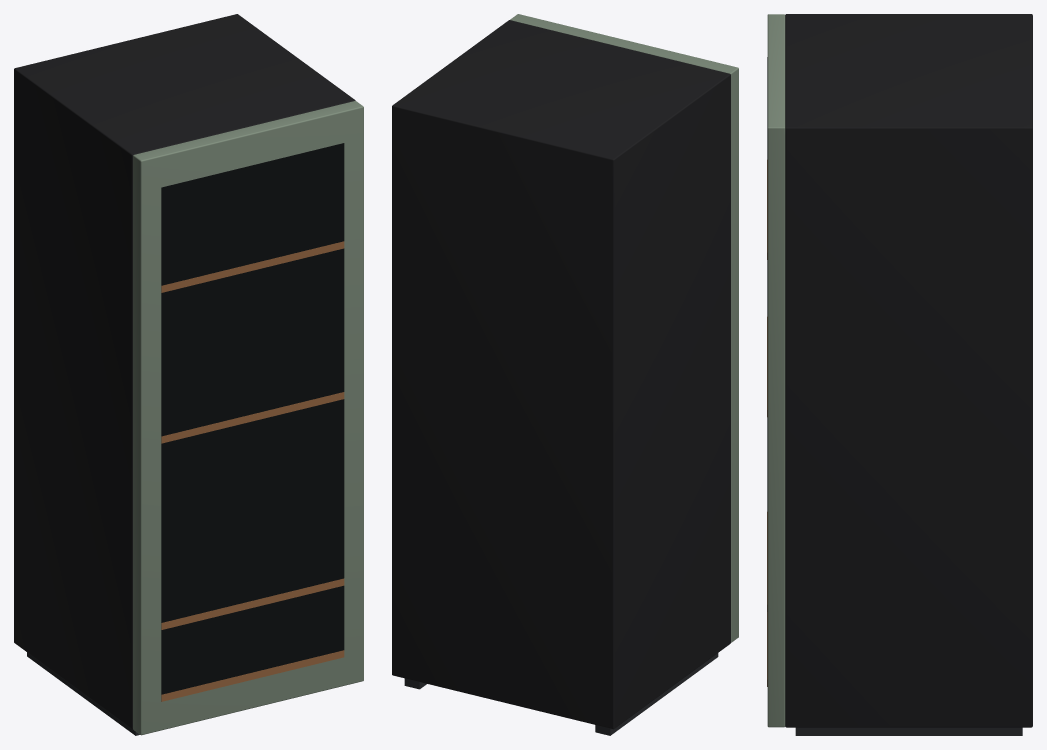
3 renders of one model, left to right at view 1: azimuth 30°, elevation 25°; view 2: azimuth 150°, elevation 25°; view 3: azimuth 270°, elevation 25°, orthographic. The views are drawn at different scales.
Visible parts, largest first — view 1: body, display_glass, door_0_frame, wood_shelf_2, wood_shelf_3, wood_shelf_4, wood_shelf_1; view 2: body, door_0_frame, trim_foot_left; view 3: body, door_0_frame, trim_foot_right, display_glass.
Part boxes in pixels (<box>): body: <box>14,14,355,728</box>; display_glass: <box>161,143,344,694</box>; door_0_frame: <box>133,101,363,735</box>; wood_shelf_2: <box>161,392,344,443</box>; wood_shelf_3: <box>161,578,344,629</box>; wood_shelf_4: <box>161,650,344,701</box>; wood_shelf_1: <box>161,241,344,292</box>; body: <box>392,20,730,729</box>; door_0_frame: <box>510,14,738,642</box>; trim_foot_left: <box>595,653,718,735</box>; body: <box>785,14,1032,727</box>; door_0_frame: <box>767,14,785,727</box>; trim_foot_right: <box>795,727,1022,735</box>; display_glass: <box>767,57,767,686</box>.
Size of the model in its own units: 0.595 by 1.49 by 0.585.
